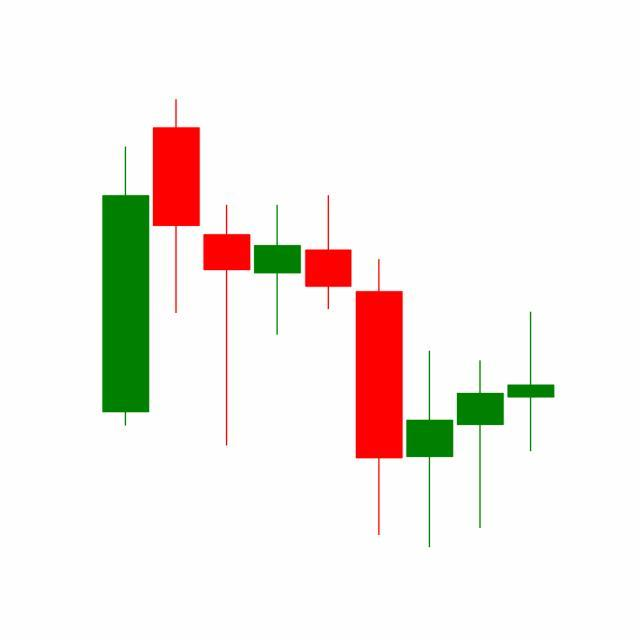Hikkake Pattern: (302, 191, 555, 549)
